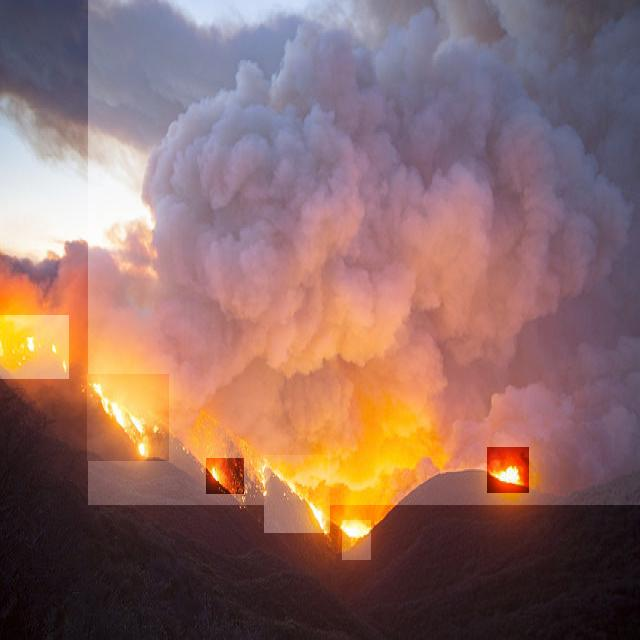Fire: (87, 374, 169, 461), (264, 455, 330, 533), (0, 315, 69, 379), (487, 447, 529, 493), (206, 458, 244, 494), (342, 520, 371, 560)
Smoke: (88, 0, 640, 505)
